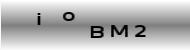2: (133, 25, 146, 37)
B: (89, 25, 105, 38)
M: (109, 24, 128, 38)
i: (35, 12, 42, 26)
o: (60, 11, 75, 22)
